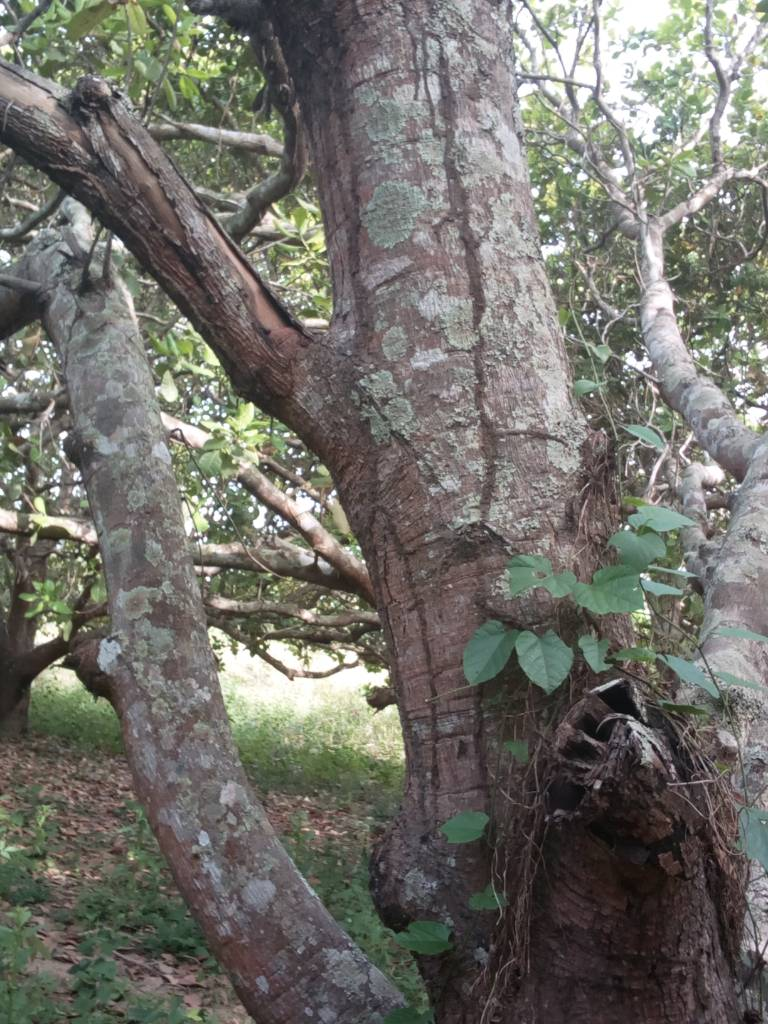Termites: (430, 33, 515, 538), (316, 19, 386, 363), (375, 519, 450, 786)
